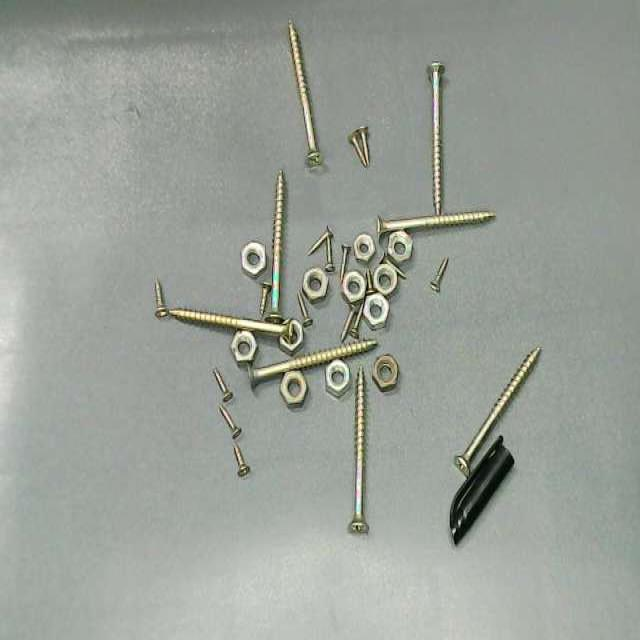Parafuso: (455, 347, 540, 477), (248, 340, 376, 387), (288, 20, 322, 166), (168, 310, 290, 337), (350, 367, 368, 533), (266, 171, 285, 323), (377, 211, 494, 235), (428, 62, 444, 215), (348, 128, 368, 166), (219, 406, 241, 439), (307, 227, 332, 254), (430, 258, 449, 292), (213, 368, 232, 402), (380, 255, 406, 278), (354, 127, 369, 166), (340, 307, 356, 342), (297, 291, 312, 327), (233, 444, 249, 477), (155, 279, 168, 318), (349, 302, 363, 338), (324, 227, 334, 271), (259, 282, 271, 315), (340, 244, 350, 282), (366, 270, 376, 296)
Porca: (280, 371, 307, 407), (373, 355, 398, 391), (363, 294, 388, 330), (302, 268, 327, 303), (326, 360, 349, 397), (279, 319, 303, 354), (231, 331, 257, 363), (242, 242, 265, 277), (373, 264, 397, 297), (387, 231, 412, 262), (342, 271, 365, 303), (354, 234, 374, 262)
